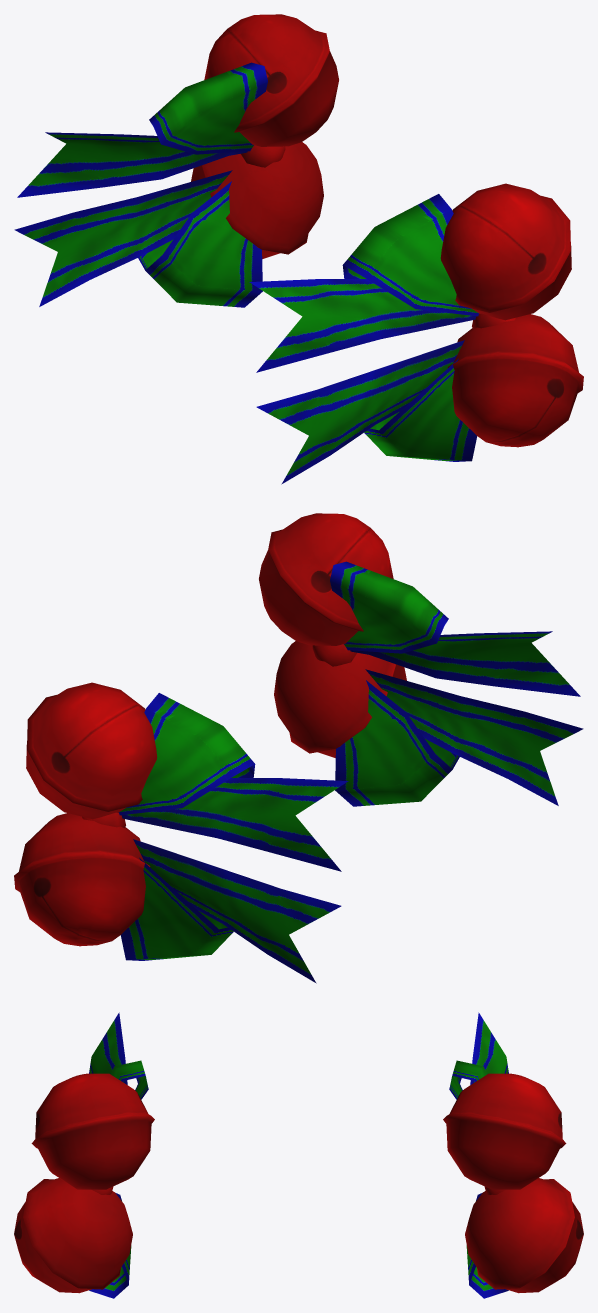
3 renders of one model, top to bottom at view 1: azimuth 30°, elevation 25°; view 2: azimuth 150°, elevation 25°; view 3: azimuth 270°, elevation 25°, orthographic. The views are drawn at different scales.
Parts seen in each view (by area): view 1: G1216; view 2: G1216; view 3: G1216.
Part boxes in pixels (x1,y1,x2,y2): G1216: (14,14,583,484); G1216: (14,513,583,983); G1216: (14,1012,583,1298).
Bounding box in the file's own units: 0.3173 × 0.2634 × 0.5725.
